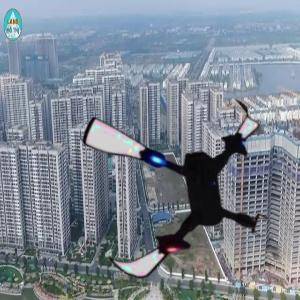drone: (66, 76, 281, 291)
